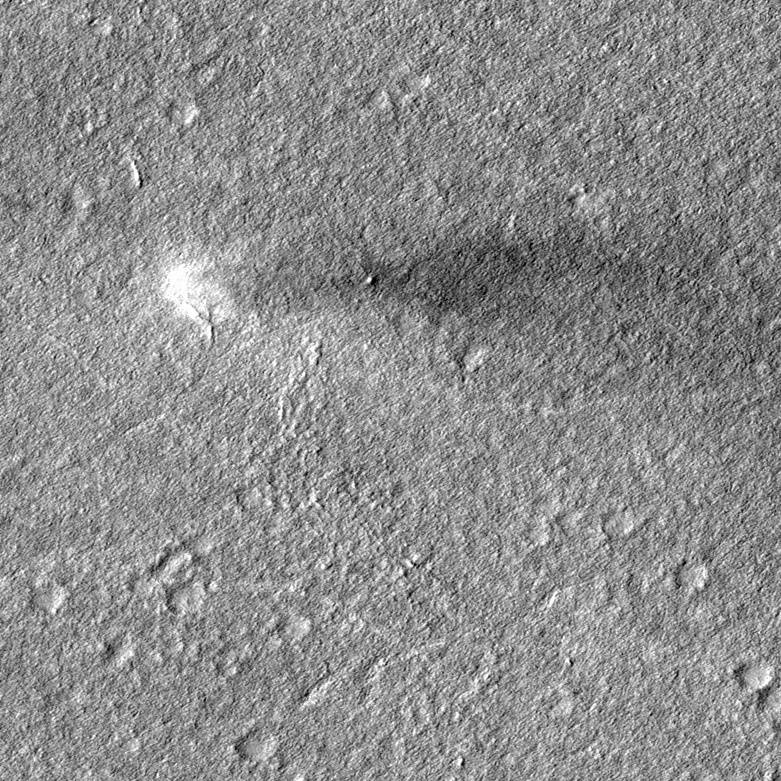dust_devil: (156, 221, 599, 340)
